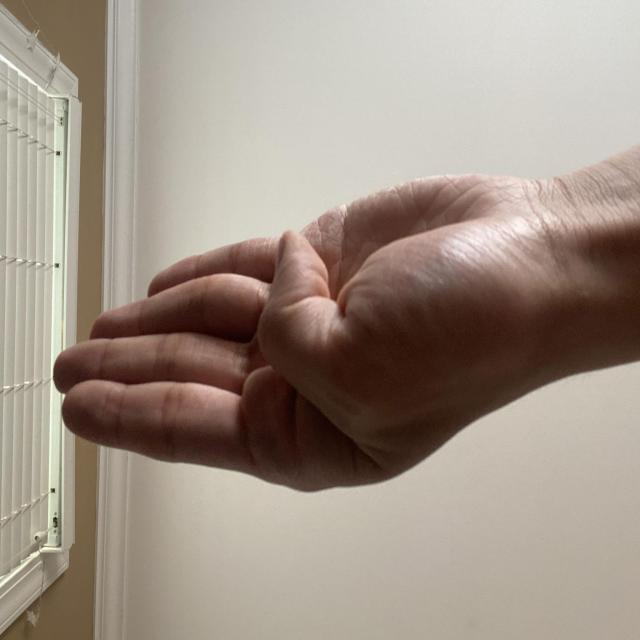B: (98, 59, 375, 640)
